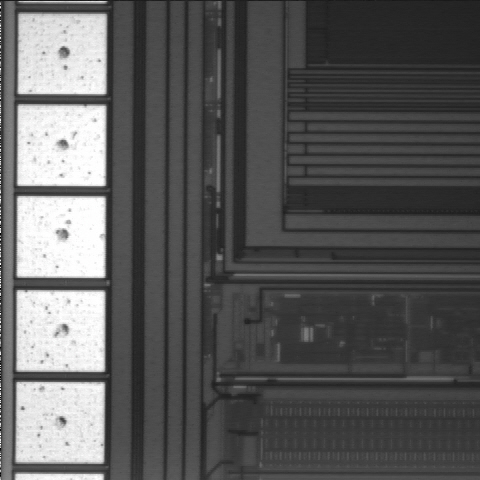pad: (17, 196, 106, 278), (16, 382, 105, 464), (17, 290, 105, 372), (17, 105, 106, 186), (18, 14, 106, 94)
